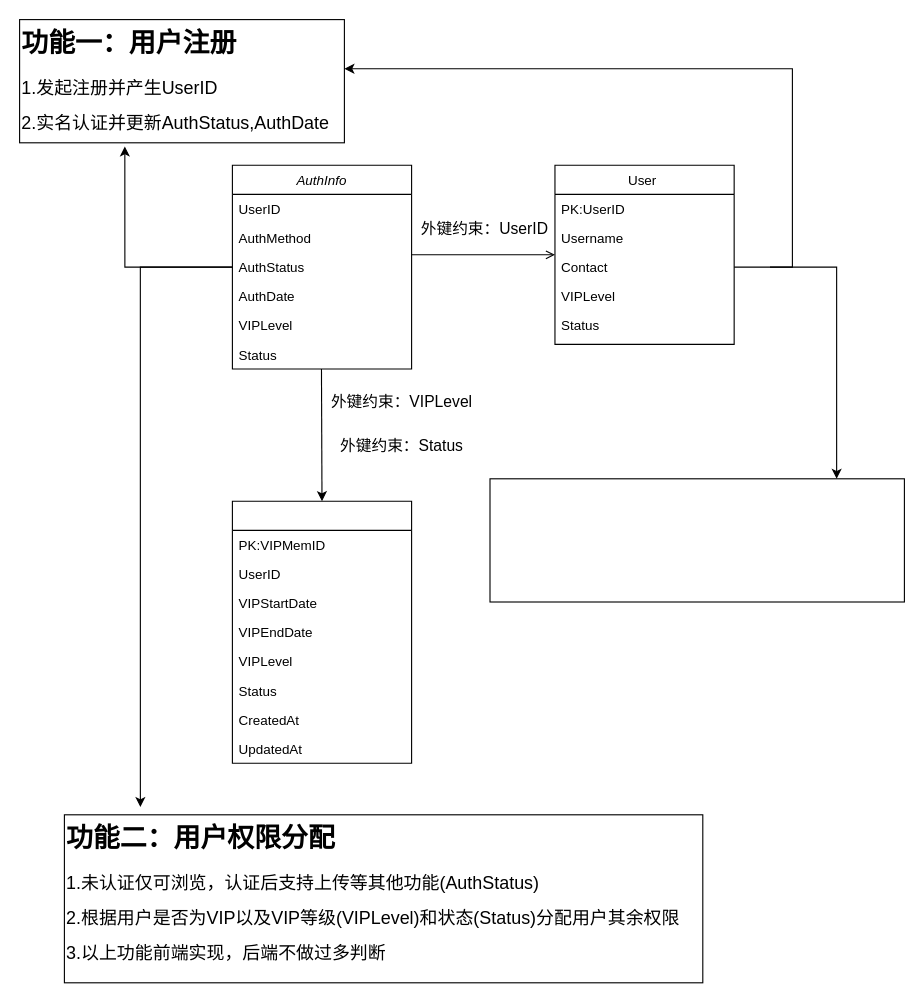
Image size: 924x1006. Some labels were removed from this diagram. The shapes that lost their labels are listed below. From the top down, each one's box as (x1, y1, x2, y2) in pixels, then its label:
(489, 478, 904, 602): 功能三：用户注销 1.发起注销 2.删除AuthInfo和User表中该UserID下的所有元素
(231, 500, 412, 763): VIPMembers
